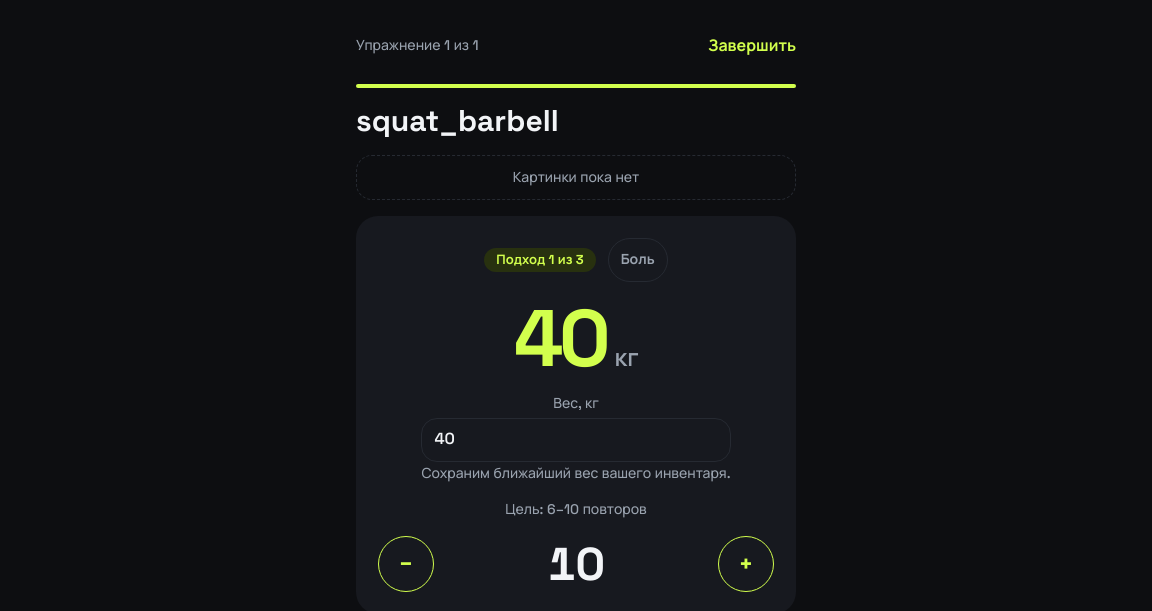
завершение тренировки › обрыв: явная ошибка и «Повторить»; повтор приходит как второй вызов и завершает
The width and height of the screenshot is (1152, 611).
Click the button with aria-label "Завершить тренировку" at (752, 46), box [708,24,796,68]
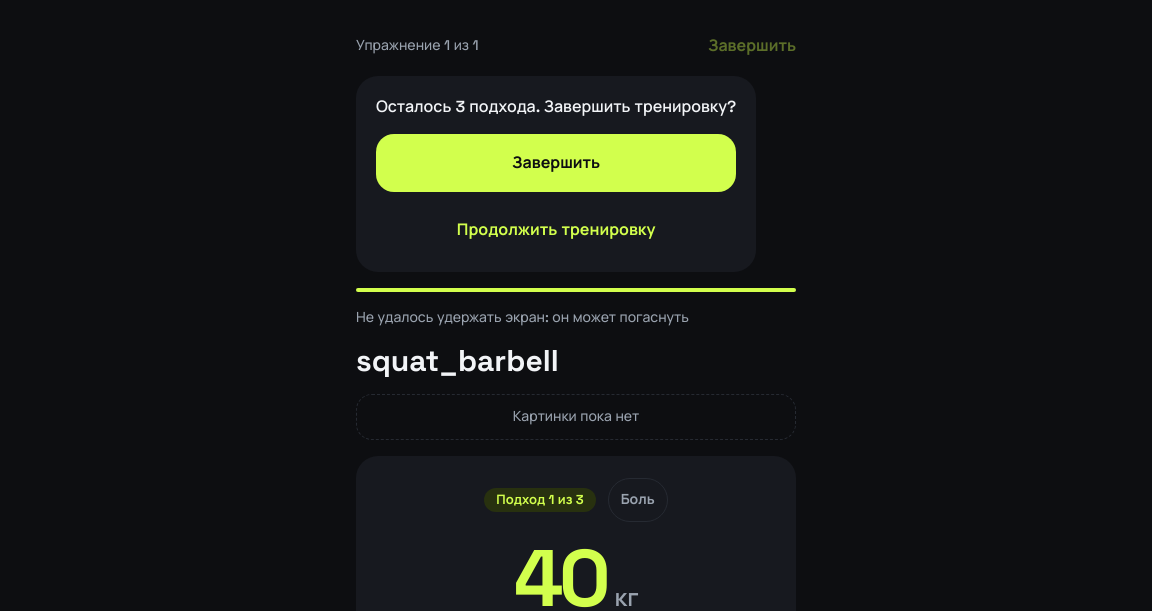
Click the button "Завершить" below "Осталось" at (556, 163), box [376,134,736,192]
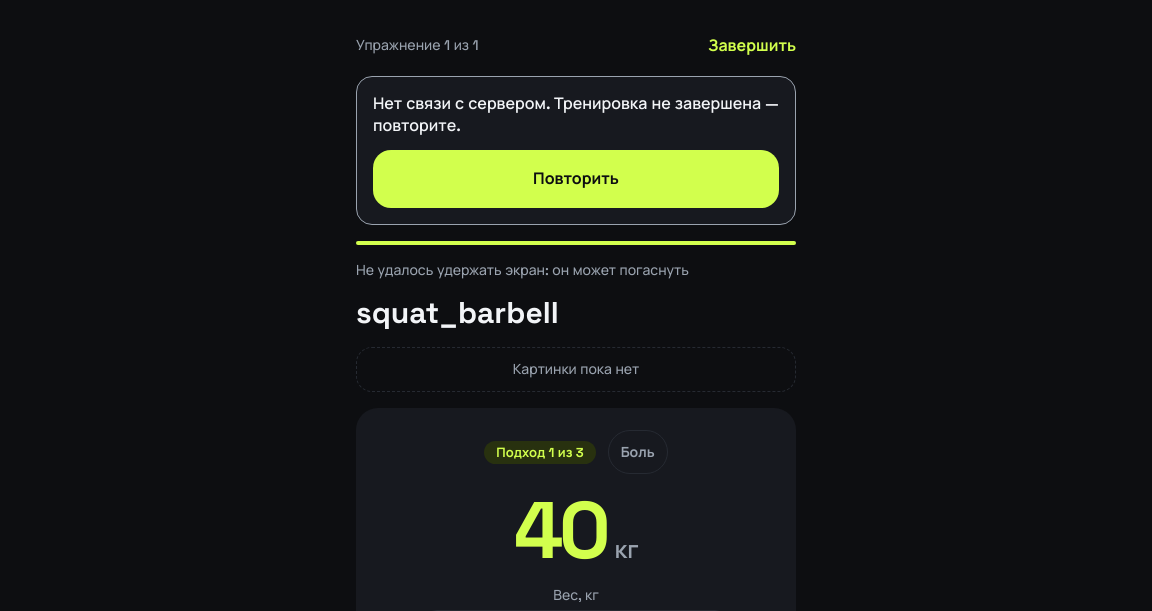
Expected: the message with test id "finish-failure" shows "Нет связи", [373,93,779,136]
Click the button "Повторить" at (576, 179), box [373,150,779,208]
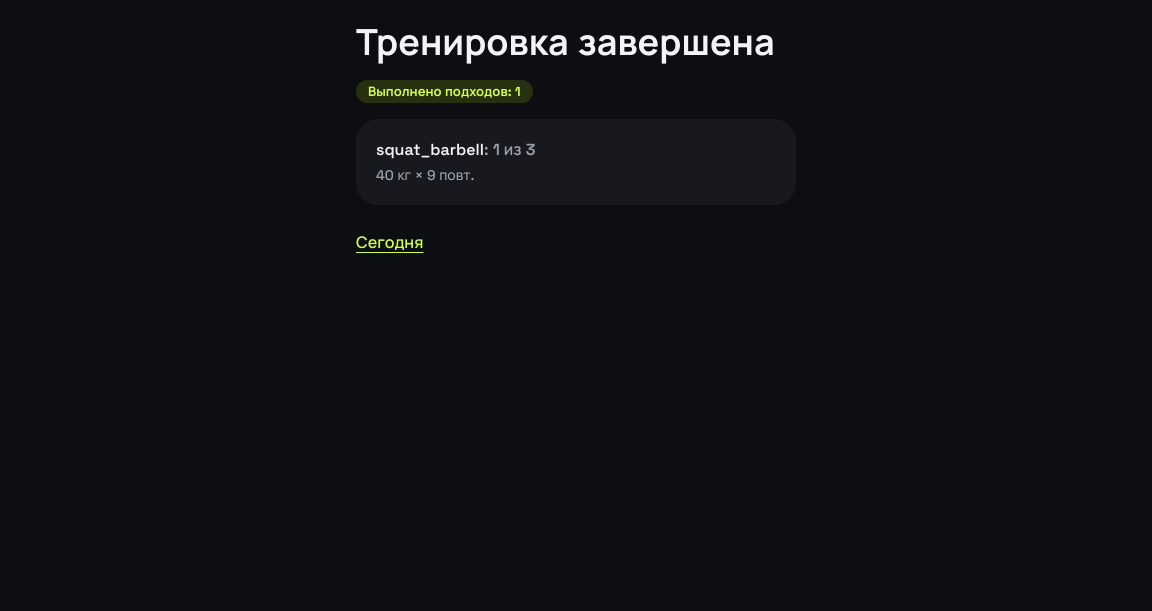
Expected: the element with test id "summary" is shown, [356,24,796,205]
Expected: the message with test id "finish-failure" is gone
